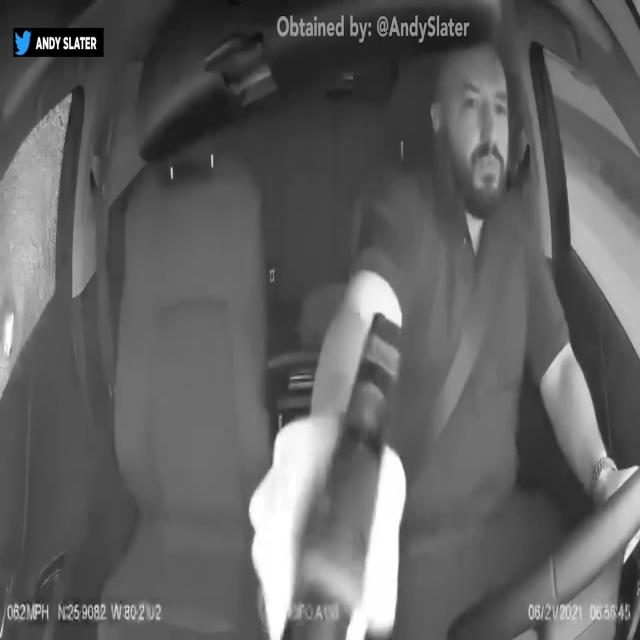senjata_api: (280, 308, 405, 640)
